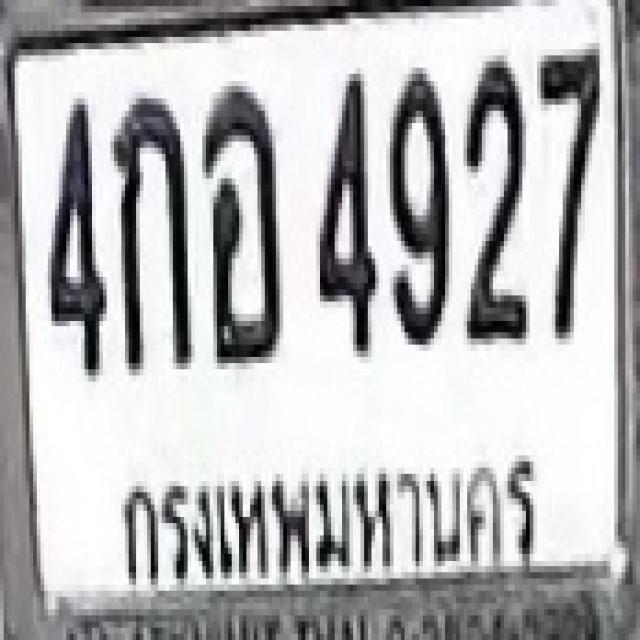2: (463, 52, 526, 342)
4: (314, 67, 377, 350), (44, 93, 103, 370)
7: (537, 43, 600, 332)
9: (386, 62, 445, 344)
A01: (110, 89, 188, 366)
A43: (200, 80, 282, 357)
BKK: (110, 424, 549, 596)
